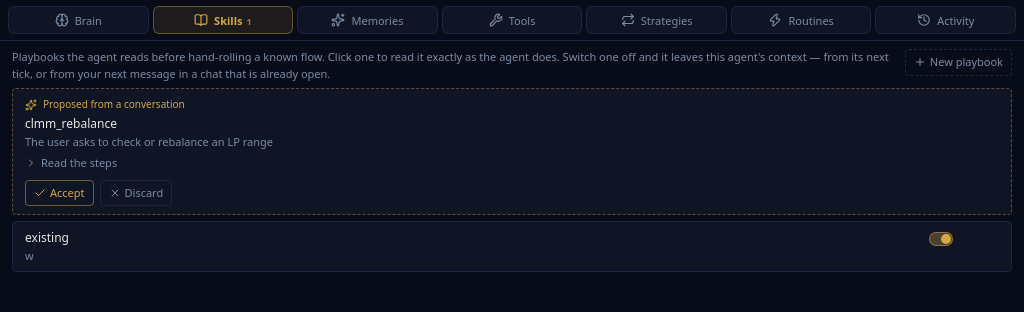
Test: the proposed playbook › says so when the accept was refused, and keeps the card
This screenshot has width=1024, height=312.
Click the button "Accept" at (59, 193), box x1=25 y1=180 x2=94 y2=206
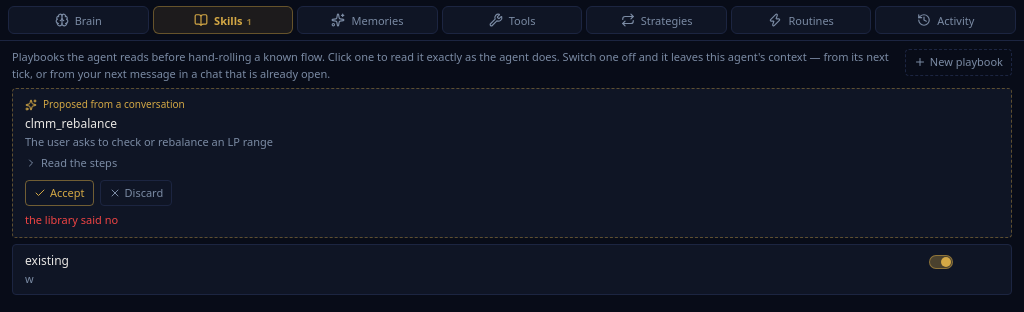
expect the text "Proposed from a conversation" is shown: met, box x1=25 y1=97 x2=185 y2=111
expect the text "the library said no" is shown: met, box x1=25 y1=212 x2=118 y2=227
